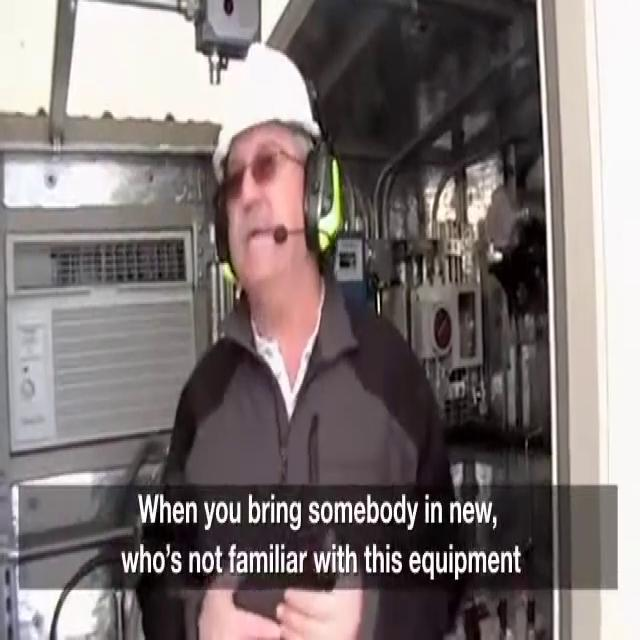earmuff: (300, 134, 344, 264)
glasses: (217, 134, 312, 206)
helmet: (209, 40, 327, 188)
